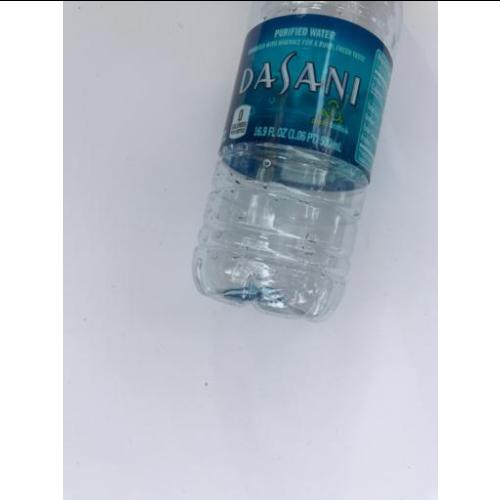plastic: (192, 0, 408, 318)
